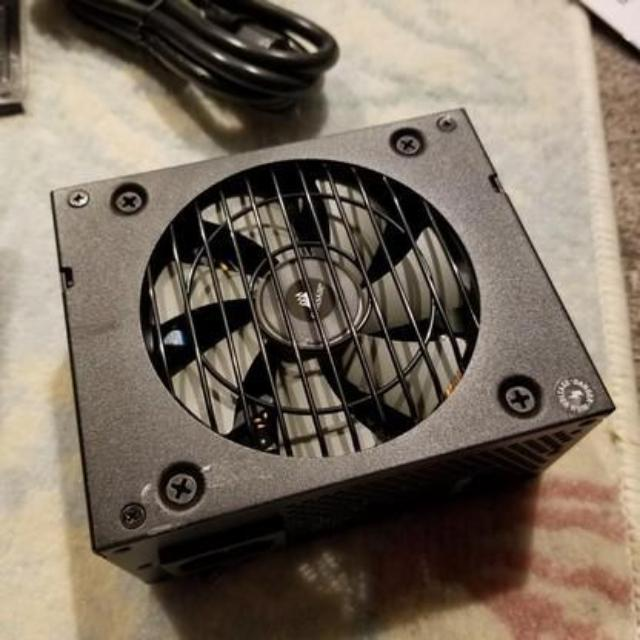PSU: (36, 107, 616, 599)
